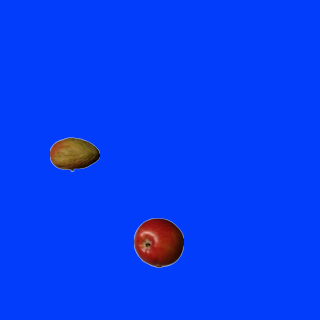Apple Braeburn: (133, 217, 183, 267)
Papaya: (49, 129, 99, 179)
